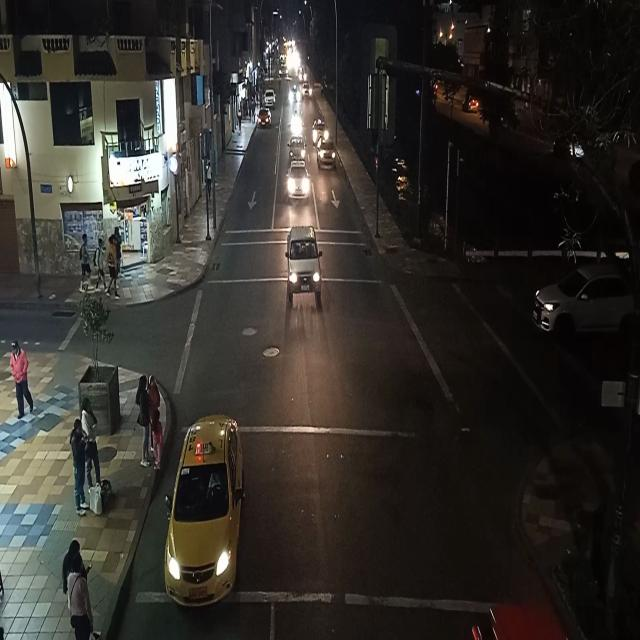CMT: (288, 224, 320, 292)
SED: (168, 418, 244, 598), (288, 165, 308, 199), (318, 141, 336, 167), (260, 110, 272, 126)
SUV: (535, 264, 635, 331), (266, 91, 276, 108)
